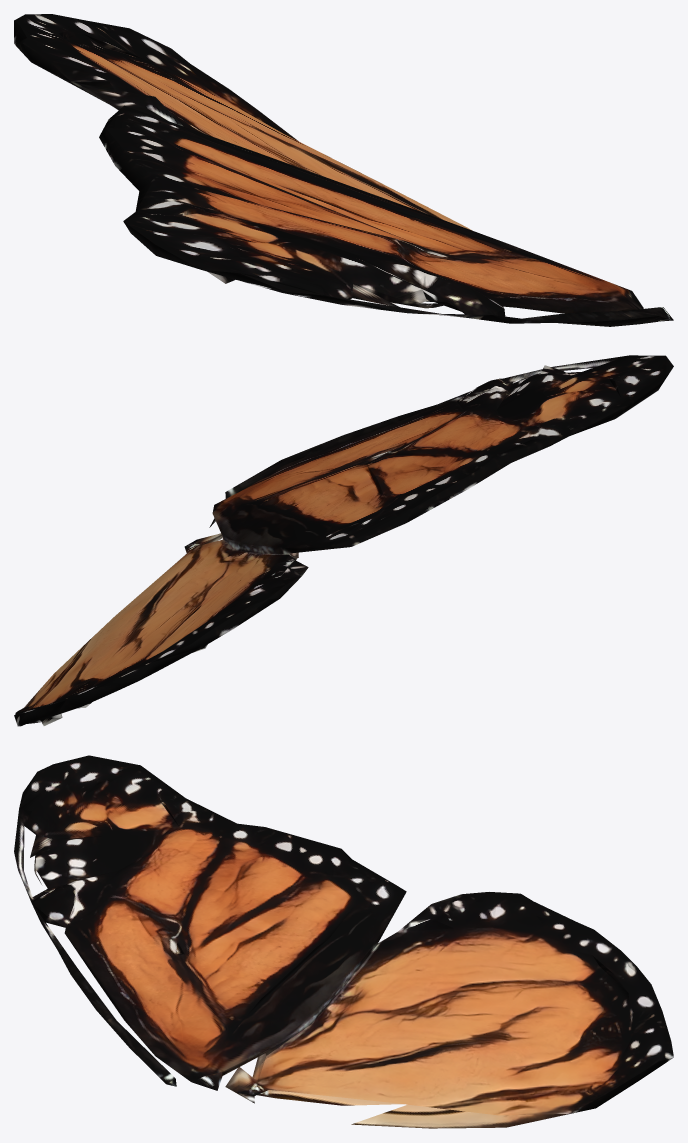
File: mariposa_ala_der.obj
The picture shows the model from 3 angles, top to bottom: view 1: azimuth 30°, elevation 25°; view 2: azimuth 150°, elevation 25°; view 3: azimuth 270°, elevation 25°; orthographic projection. The views are drawn at different scales.
Visible parts, largest first — view 1: alaDer; view 2: alaDer; view 3: alaDer.
Part boxes in pixels (<box>): alaDer: <box>14,14,673,326</box>; alaDer: <box>14,355,673,726</box>; alaDer: <box>14,755,673,1128</box>.
Size of the model in its own units: 0.8896 by 0.4964 by 1.44.
Materials: 1 (1 with a texture image).
